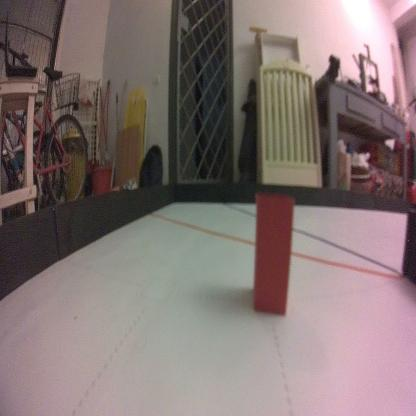red: (253, 192, 295, 318)
